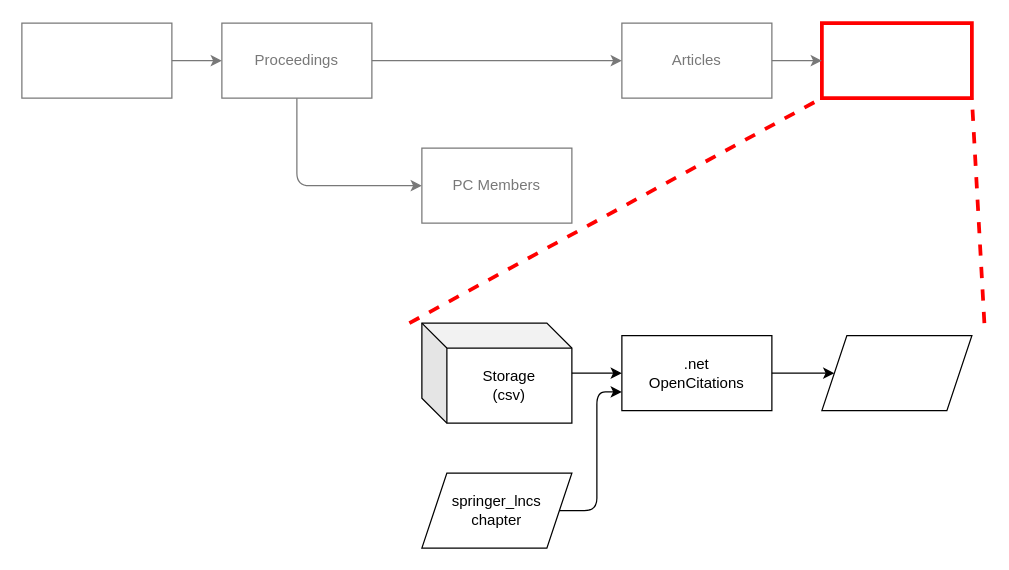
This 1009x570 diagram has some shape labels left out. Here are the shapes that lost their labels. From the top down, the centre of each, then its label:
(x=96, y=60): Top conferences
(x=896, y=60): Citations
(x=896, y=372): opencitations_ dump reference
